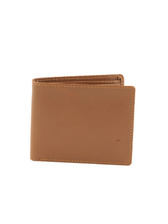other: (27, 73, 141, 170)
